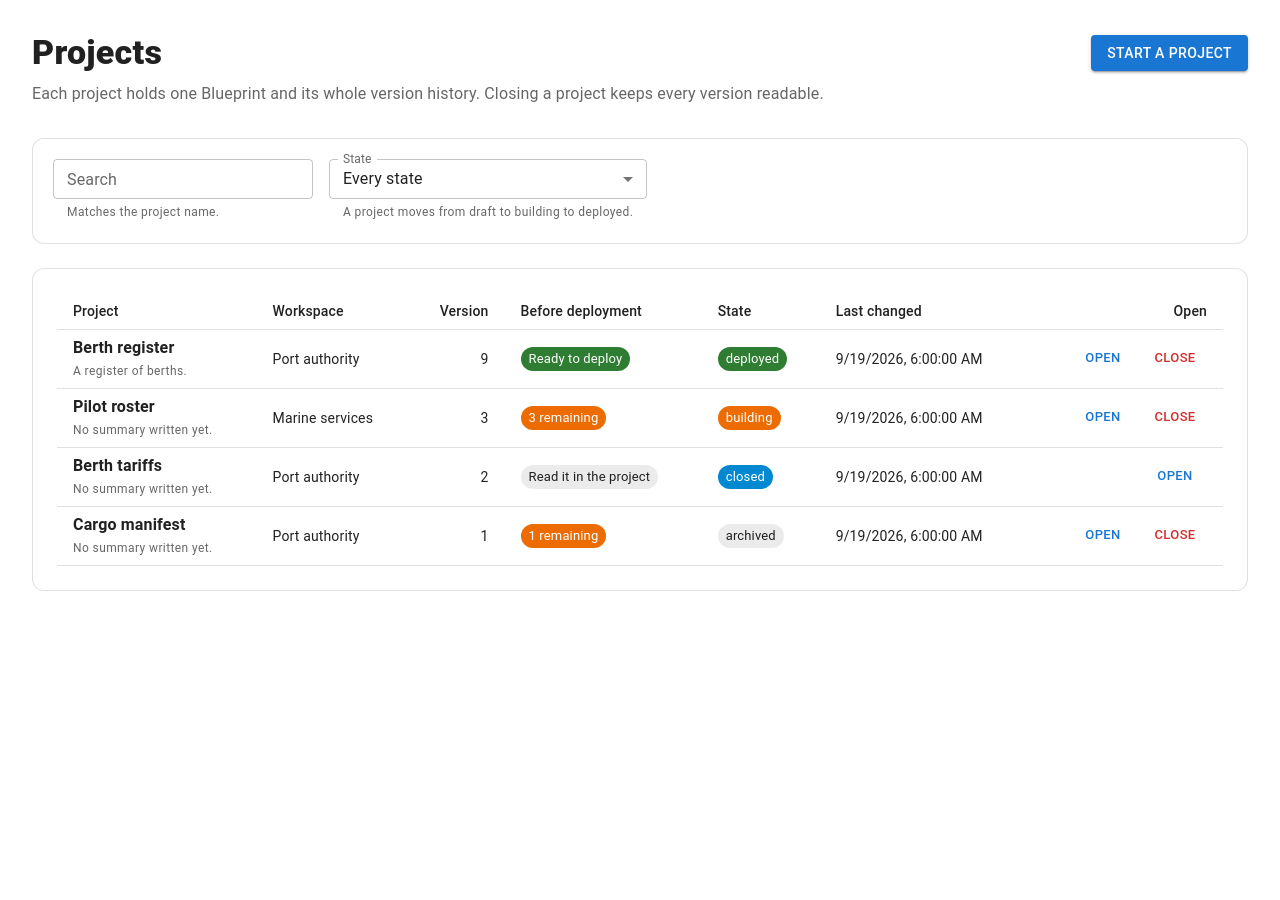
it: the Projects panel › names the fix and keeps the dialog open when closing is refused
Expected: the text "Berth register" is shown, x1=73 y1=338 x2=174 y2=357
Click the button "Close" in the row of "Berth register" at coordinates (1175, 359), box x1=1143 y1=344 x2=1207 y2=374
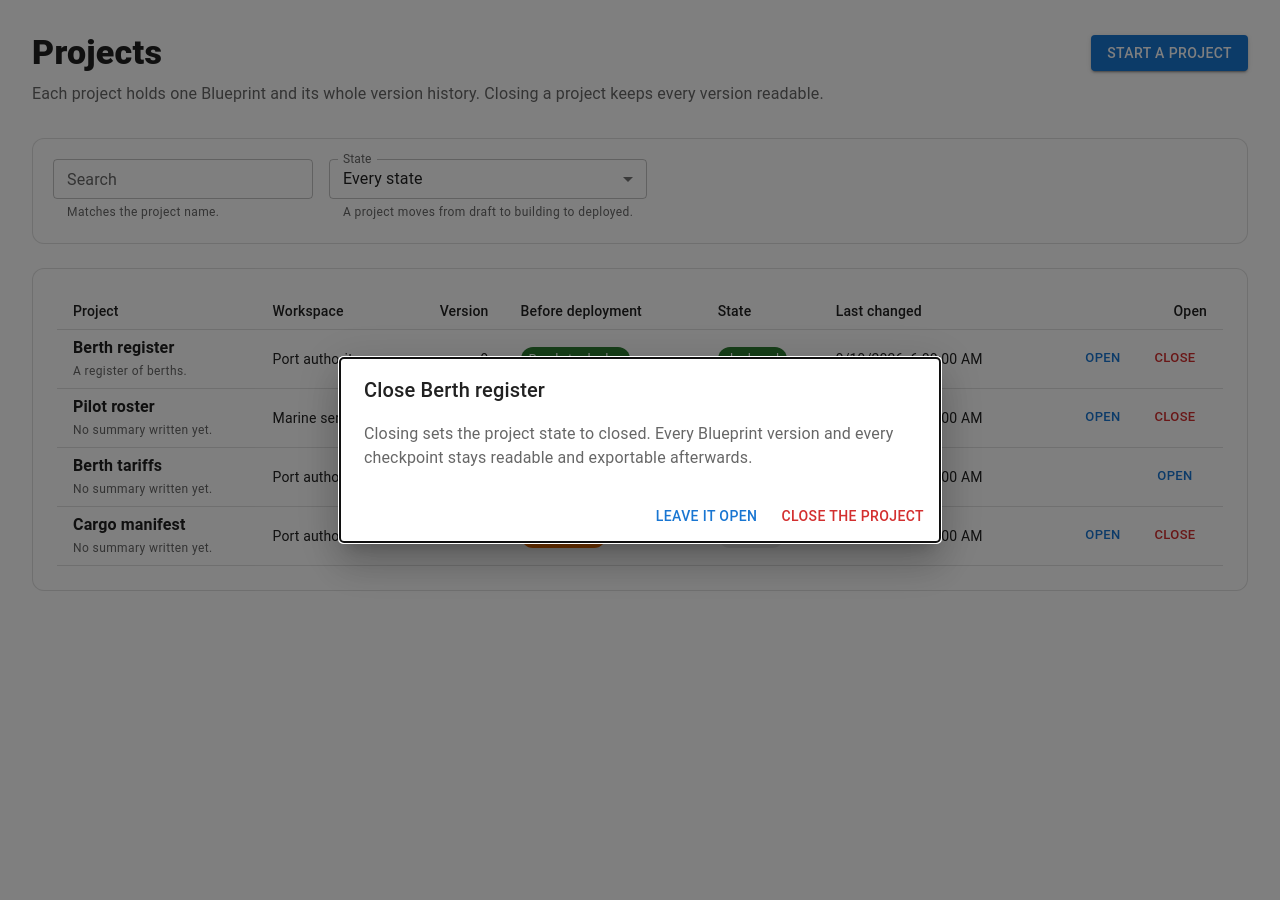
Click the button "Close the project" at coordinates (853, 516), box x1=773 y1=498 x2=932 y2=534
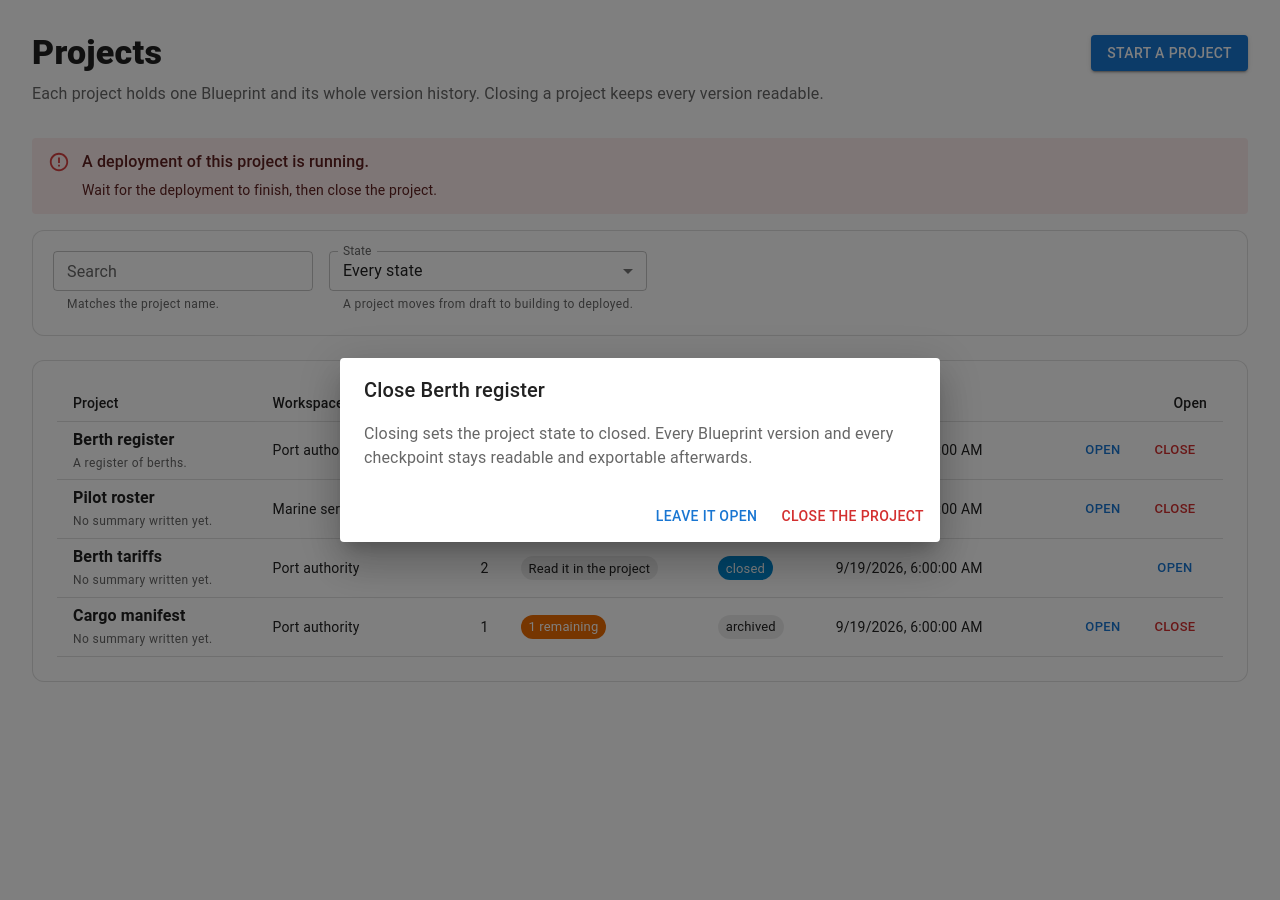
Expected: the dialog is shown, x1=340 y1=358 x2=940 y2=542
Expected: the text "A deployment of this project is running." is shown, x1=82 y1=152 x2=369 y2=171
Expected: the text "Wait for the deployment to finish, then close the project." is shown, x1=82 y1=182 x2=437 y2=198
